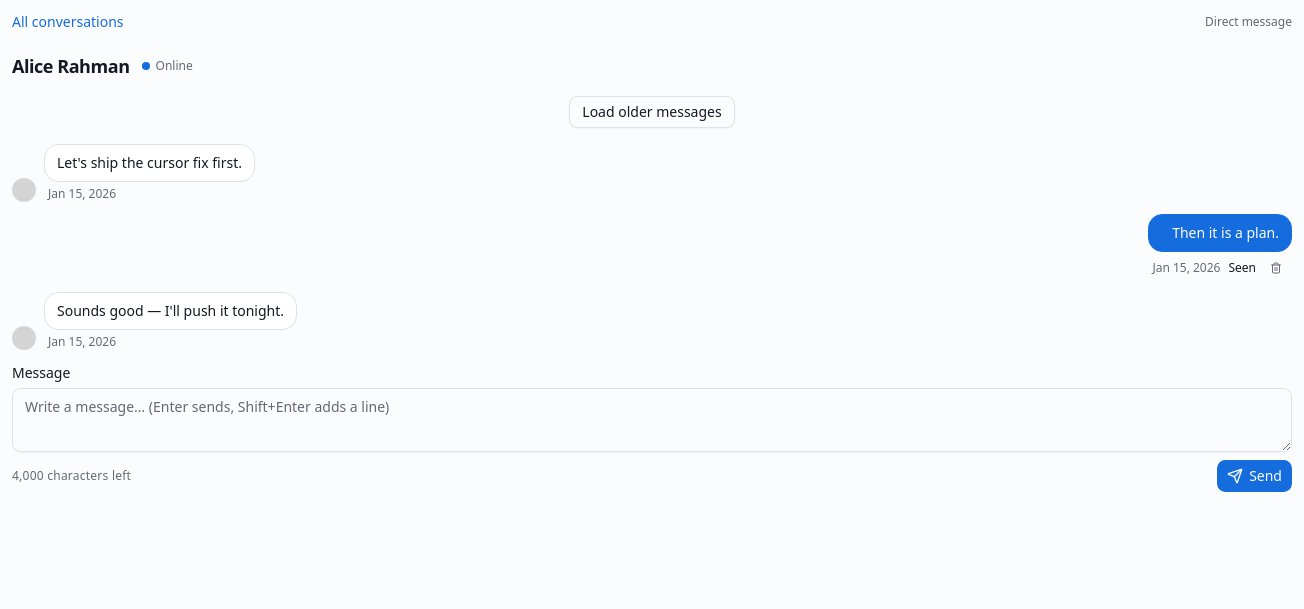
MessageThread › loads older messages from the cursor the server returned
Check: the text "Let's ship the cursor fix first." is shown, box x1=44 y1=144 x2=255 y2=182
Check: the text "Hey! Did the pagination land?" is not shown
Click the button "Load older messages" at [652, 112], box x1=569 y1=96 x2=735 y2=128
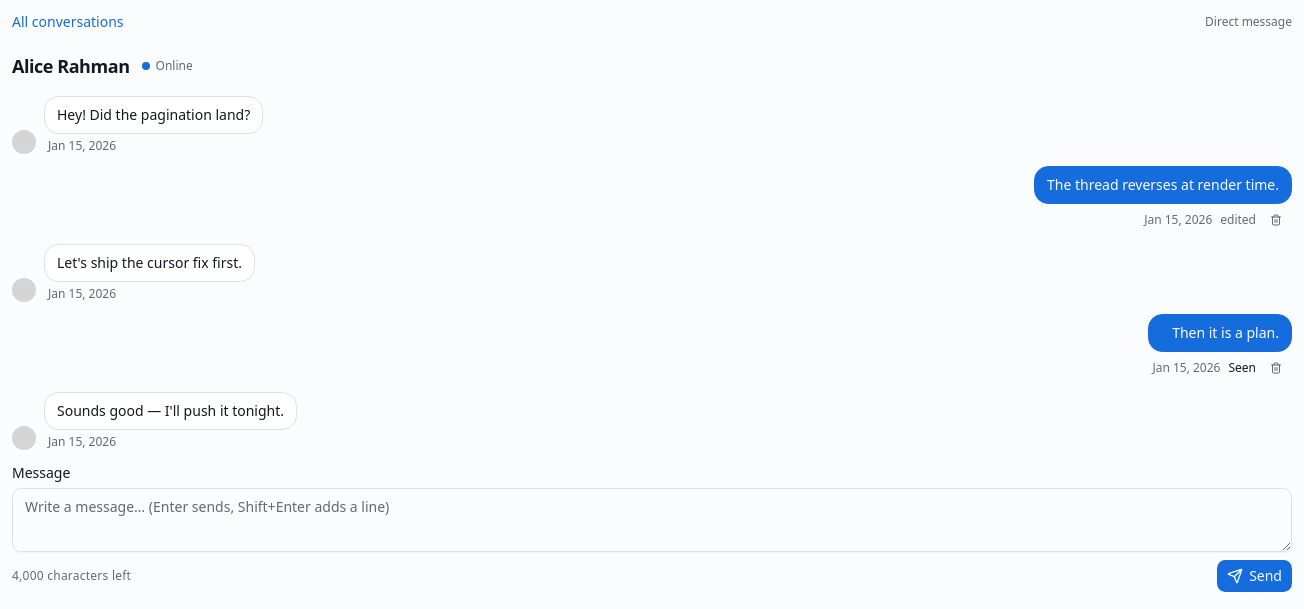
Check: the text "Hey! Did the pagination land?" is shown, box x1=44 y1=96 x2=263 y2=134
Check: the button "Load older messages" is gone
